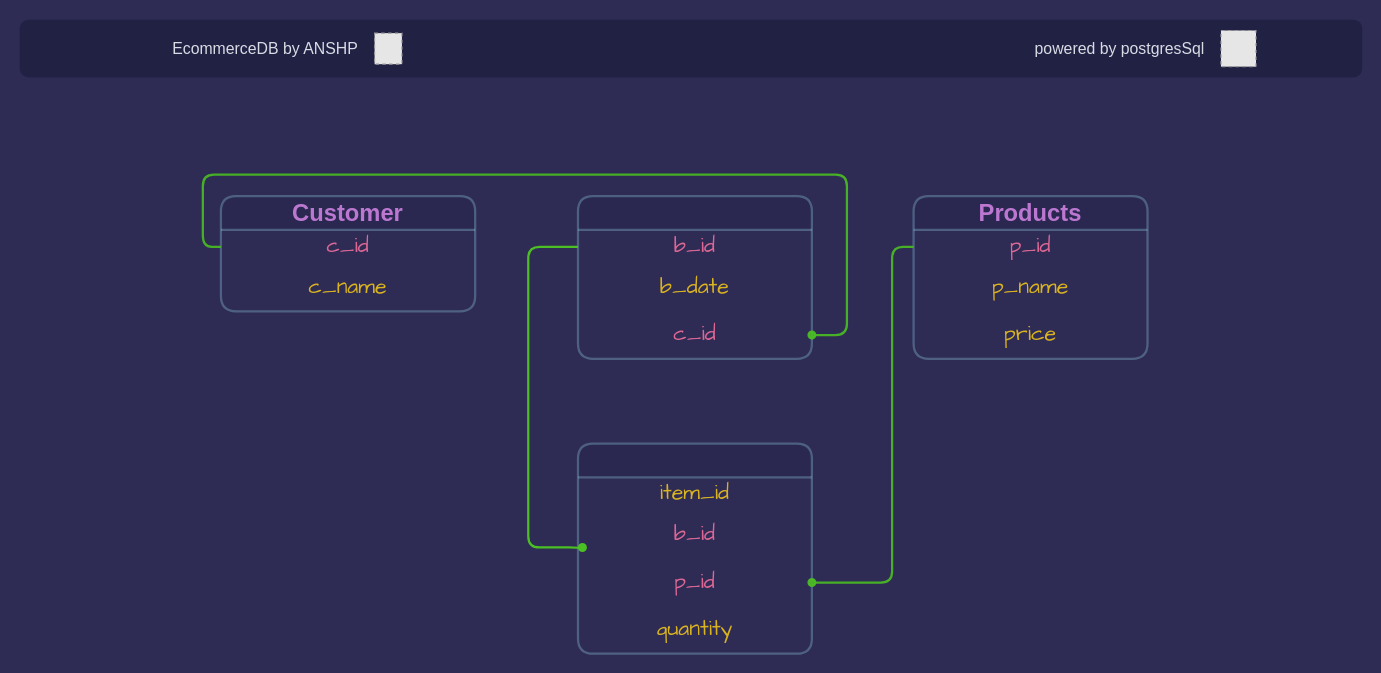
Image size: 1381x673. Some labels were removed from this diagram. Grey dashed boxes stand in for pictures. Here are the shapes that lost their labels. From the top down, the box of each, then its label:
(576, 194, 812, 359): Bill
(576, 442, 812, 654): Order_Items
